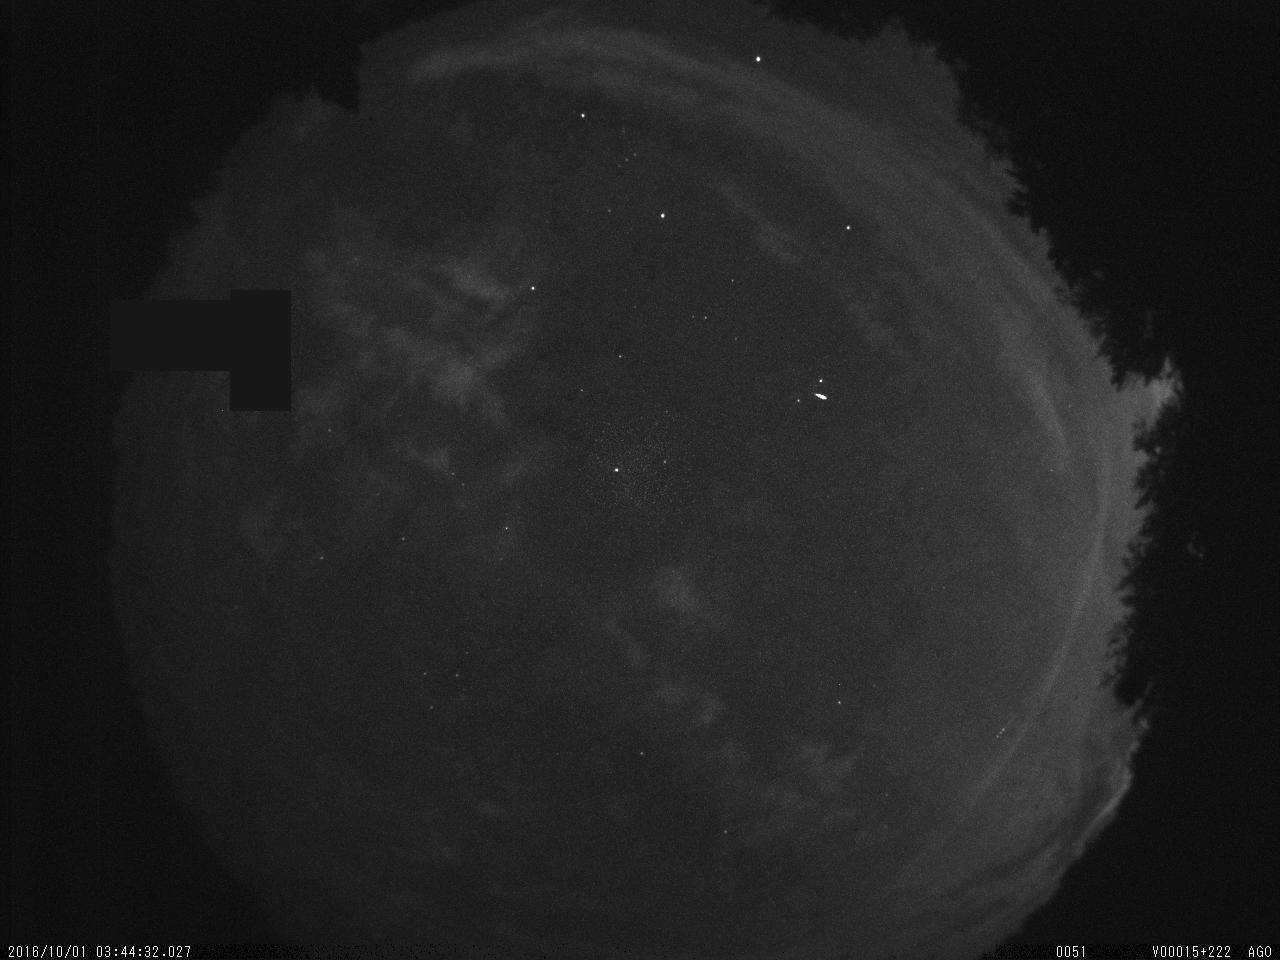Meteor: (809, 390, 832, 406)
